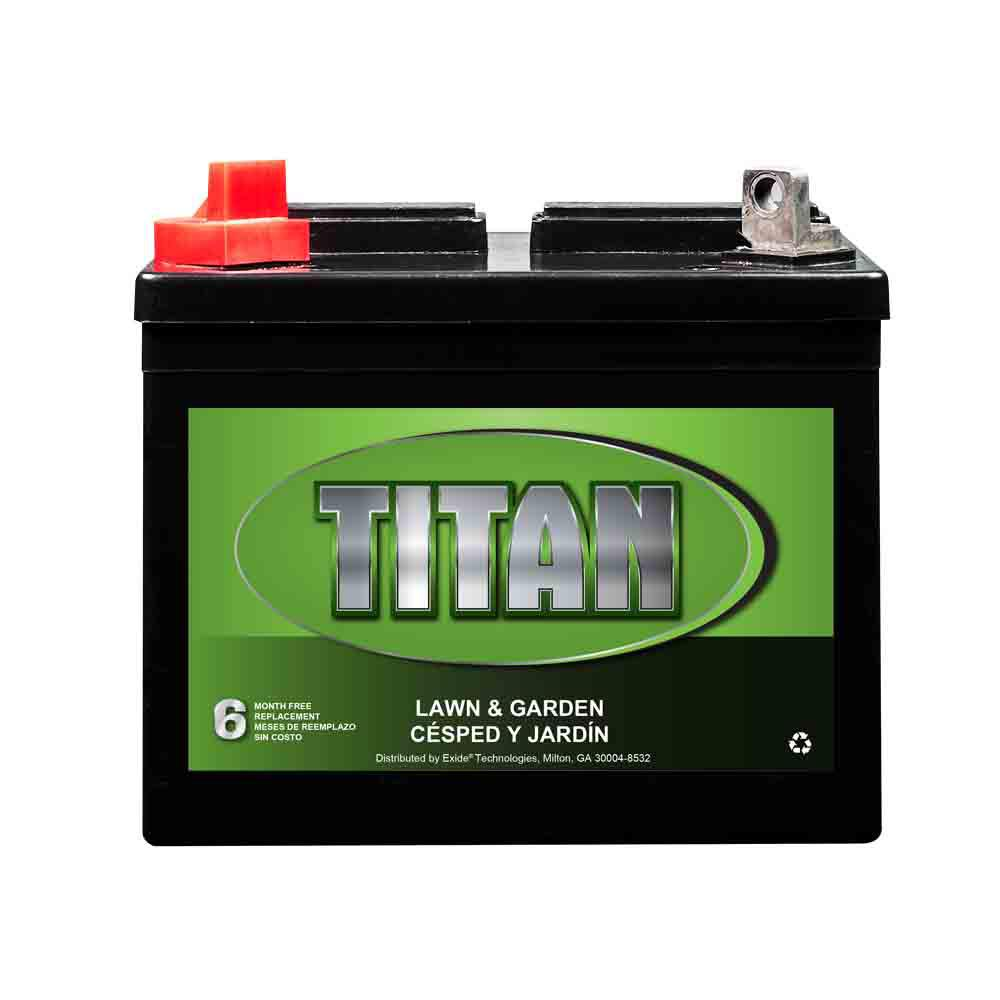Nonrec_Other: (116, 110, 935, 874)
